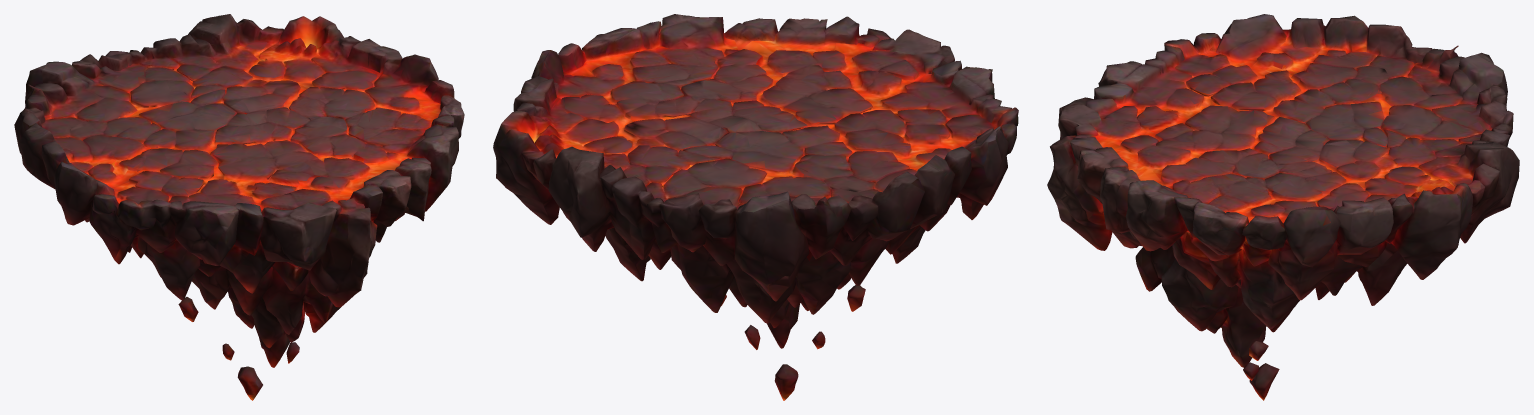
The model's file is R3_Island_Small.fbx.
3 renders of one model, left to right at view 1: azimuth 30°, elevation 25°; view 2: azimuth 150°, elevation 25°; view 3: azimuth 270°, elevation 25°, orthographic. The views are drawn at different scales.
Parts seen in each view (by area): view 1: R3_Island_Small; view 2: R3_Island_Small; view 3: R3_Island_Small.
Part boxes in pixels (x1,y1,x2,y2): R3_Island_Small: (14, 14, 464, 400); R3_Island_Small: (493, 14, 1018, 400); R3_Island_Small: (1047, 14, 1519, 400).
Bounding box in the file's own units: 520 × 360 × 520.
1 material, 1 textured.
